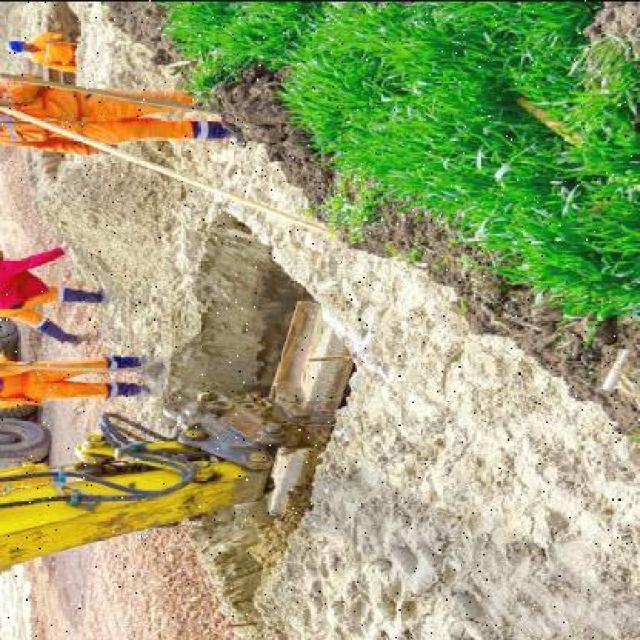shoes: (219, 126, 247, 146), (64, 328, 94, 346), (134, 380, 155, 398)
